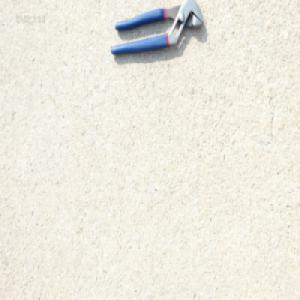Pliers: (109, 0, 203, 58)
